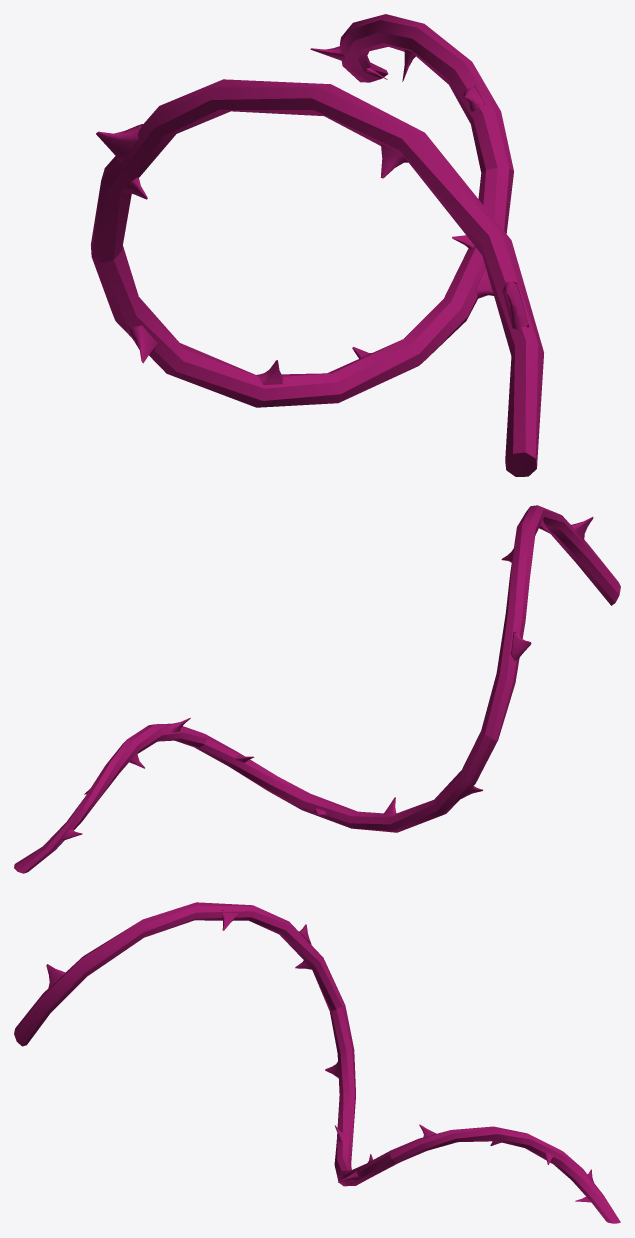
Rendered from N_Brambles_01.fbx.
3 views of the same model, one above another, from view 1: azimuth 30°, elevation 25°; view 2: azimuth 150°, elevation 25°; view 3: azimuth 270°, elevation 25° (orthographic). The views are drawn at different scales.
Parts seen in each view (by area): view 1: N_Brambles_01; view 2: N_Brambles_01; view 3: N_Brambles_01.
Part boxes in pixels (bbox=[...]): N_Brambles_01: bbox=[91, 14, 543, 476]; N_Brambles_01: bbox=[14, 505, 620, 873]; N_Brambles_01: bbox=[14, 902, 620, 1223].
Size of the model in its own units: 20.46 by 15.15 by 36.03.
